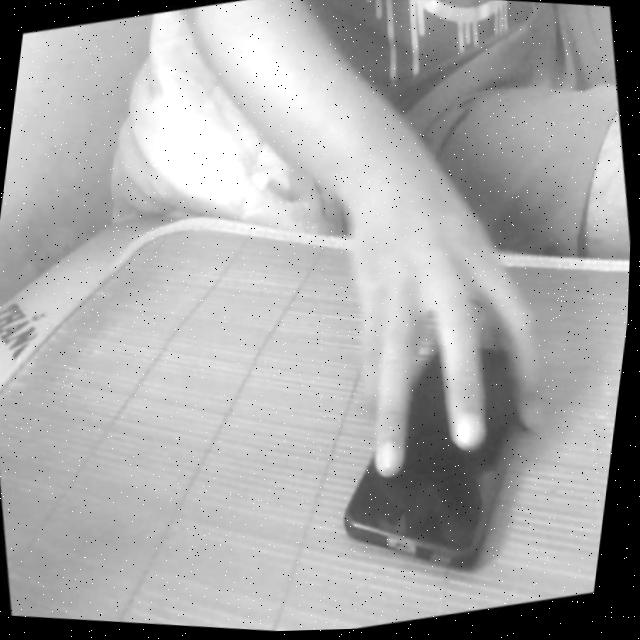phone: (290, 261, 595, 615)
